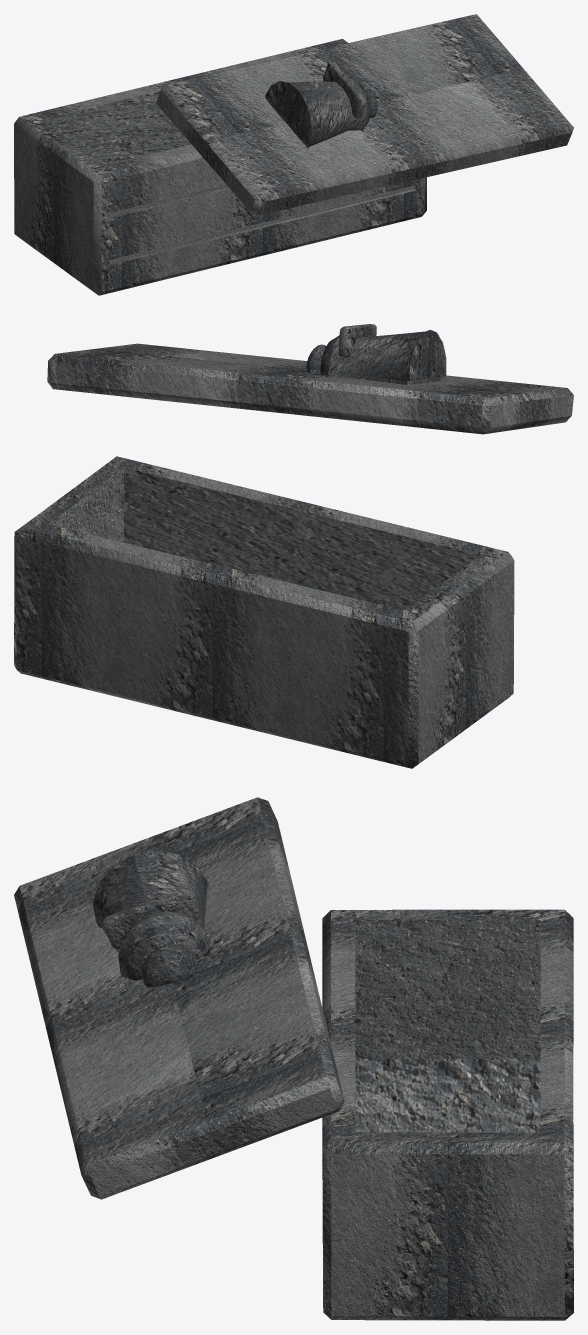
The model's file is sarcophagus-broken-lid-v03.glb.
The picture shows the model from 3 angles, top to bottom: view 1: azimuth 30°, elevation 25°; view 2: azimuth 150°, elevation 25°; view 3: azimuth 270°, elevation 25°; orthographic projection. The views are drawn at different scales.
Parts seen in each view (by area): view 1: sarcophagus-broken-lid; view 2: sarcophagus-broken-lid; view 3: sarcophagus-broken-lid.
Part boxes in pixels (box(x1,y1,x2,y2)): sarcophagus-broken-lid: box(14, 14, 573, 295); sarcophagus-broken-lid: box(14, 324, 573, 768); sarcophagus-broken-lid: box(14, 797, 573, 1320).
Bounding box in the file's own units: 3.11 × 1.68 × 2.57.
1 material, 1 textured.
